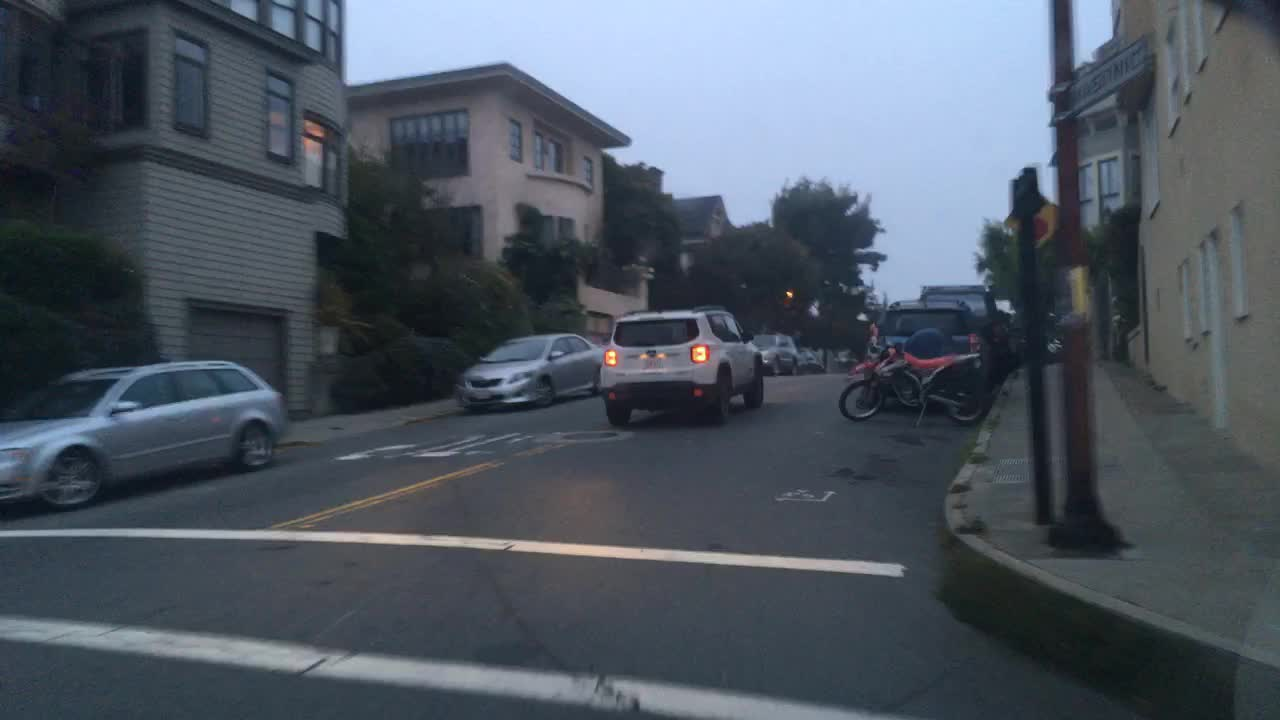car: (0, 355, 290, 511), (601, 303, 768, 426), (451, 331, 606, 414), (920, 284, 1008, 385), (862, 298, 972, 363), (749, 330, 797, 379), (793, 348, 824, 373)
motor: (840, 321, 985, 426)
traffic sign: (1065, 38, 1145, 113), (1003, 197, 1065, 247)
